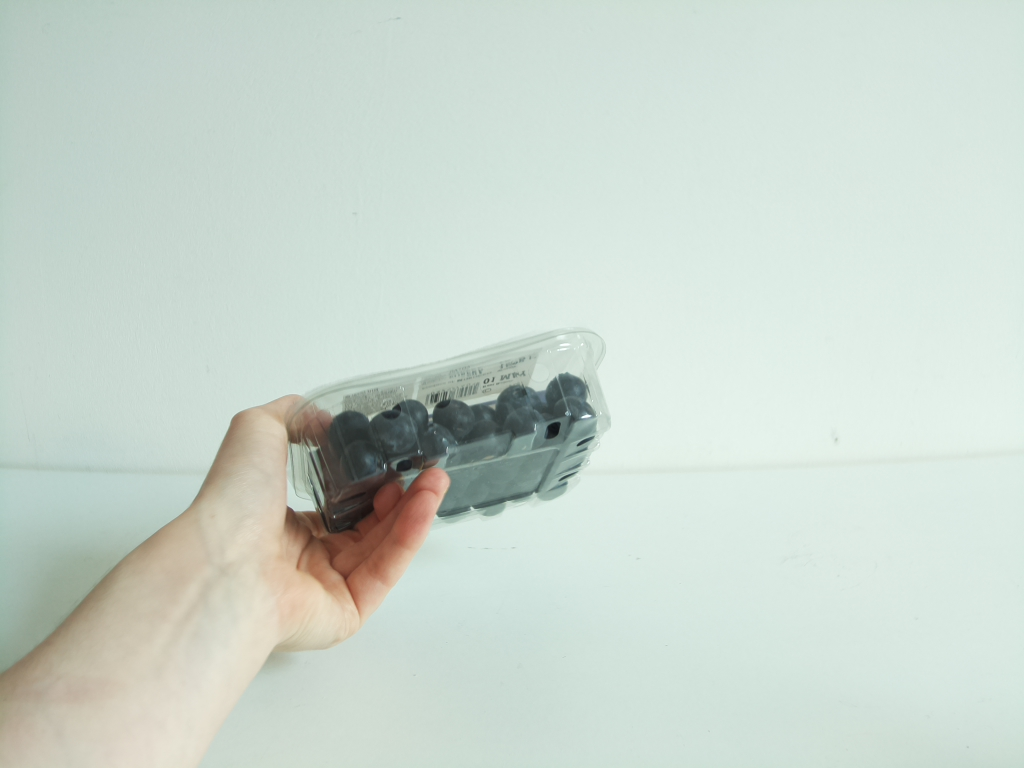soft-fruit: (284, 335, 615, 538)
